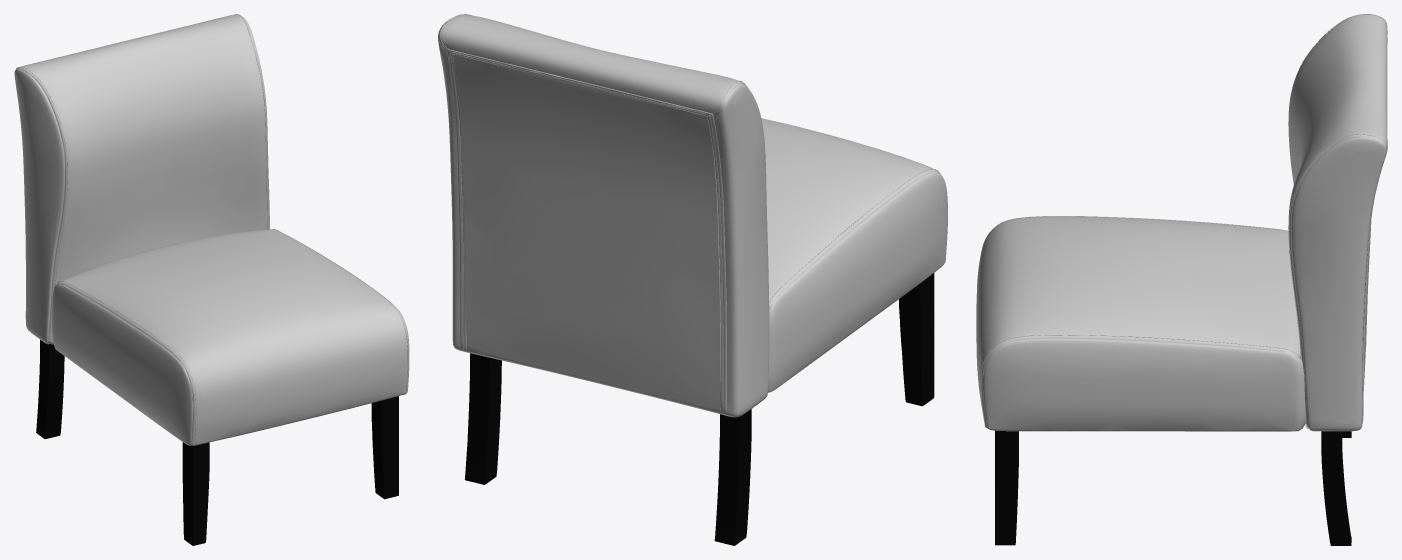
The model's file is ZIPC6590_v6_LOD2.obj.
3 renders of one model, left to right at view 1: azimuth 30°, elevation 25°; view 2: azimuth 150°, elevation 25°; view 3: azimuth 270°, elevation 25°, orthographic. The views are drawn at different scales.
Parts seen in each view (by area): view 1: not_clear_obj_0_v6, not_clear_obj_2_v6, not_clear_obj_1_v6; view 2: not_clear_obj_0_v6, not_clear_obj_2_v6, not_clear_obj_1_v6; view 3: not_clear_obj_0_v6, not_clear_obj_2_v6, not_clear_obj_1_v6.
Boxes of the visible parts, left/top/right/bottom form: not_clear_obj_0_v6: left=14, top=14, right=409, bottom=445; not_clear_obj_2_v6: left=36, top=340, right=398, bottom=545; not_clear_obj_1_v6: left=17, top=14, right=408, bottom=445; not_clear_obj_0_v6: left=438, top=14, right=947, bottom=417; not_clear_obj_2_v6: left=464, top=273, right=934, bottom=545; not_clear_obj_1_v6: left=440, top=14, right=940, bottom=411; not_clear_obj_0_v6: left=976, top=14, right=1387, bottom=431; not_clear_obj_2_v6: left=995, top=430, right=1351, bottom=545; not_clear_obj_1_v6: left=980, top=14, right=1387, bottom=428.
Size of what is drawn, in the model's own units: 55.87 by 83.82 by 75.55.
